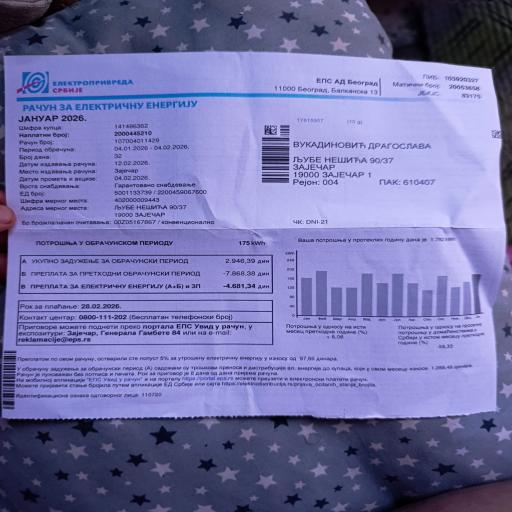racun_za_struju: (12, 236, 280, 313)
